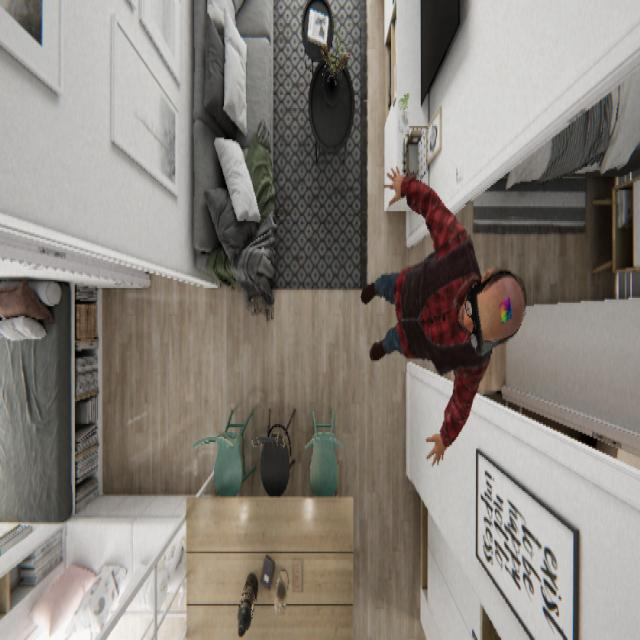Colored-Marker: (497, 293, 513, 326)
Human: (360, 162, 527, 467)
